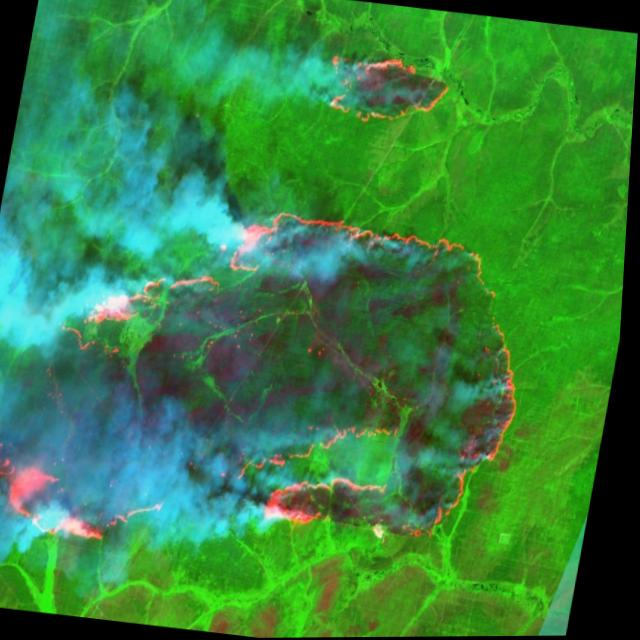fire: (0, 166, 560, 600), (311, 38, 464, 137)
